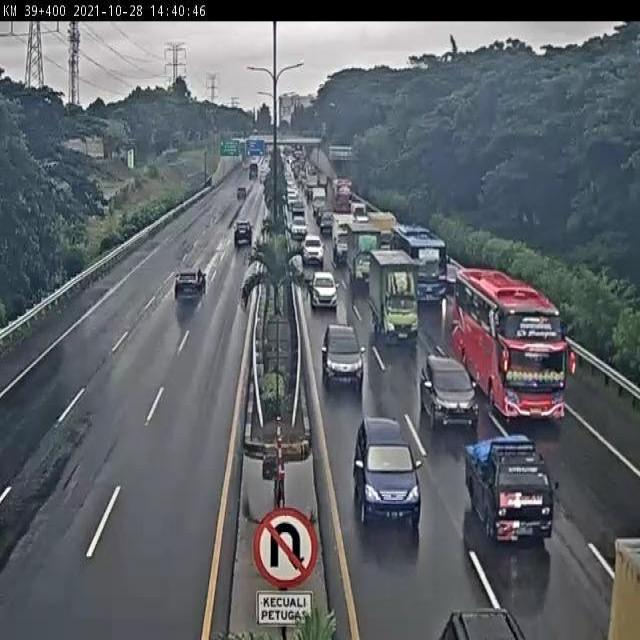bus-l-: (453, 268, 567, 424), (389, 221, 446, 304)
car: (463, 433, 555, 544), (353, 414, 423, 530), (419, 354, 478, 430), (321, 322, 364, 390), (309, 268, 337, 309)
mid truck: (173, 266, 207, 302)
truck-m-: (368, 251, 420, 344)
